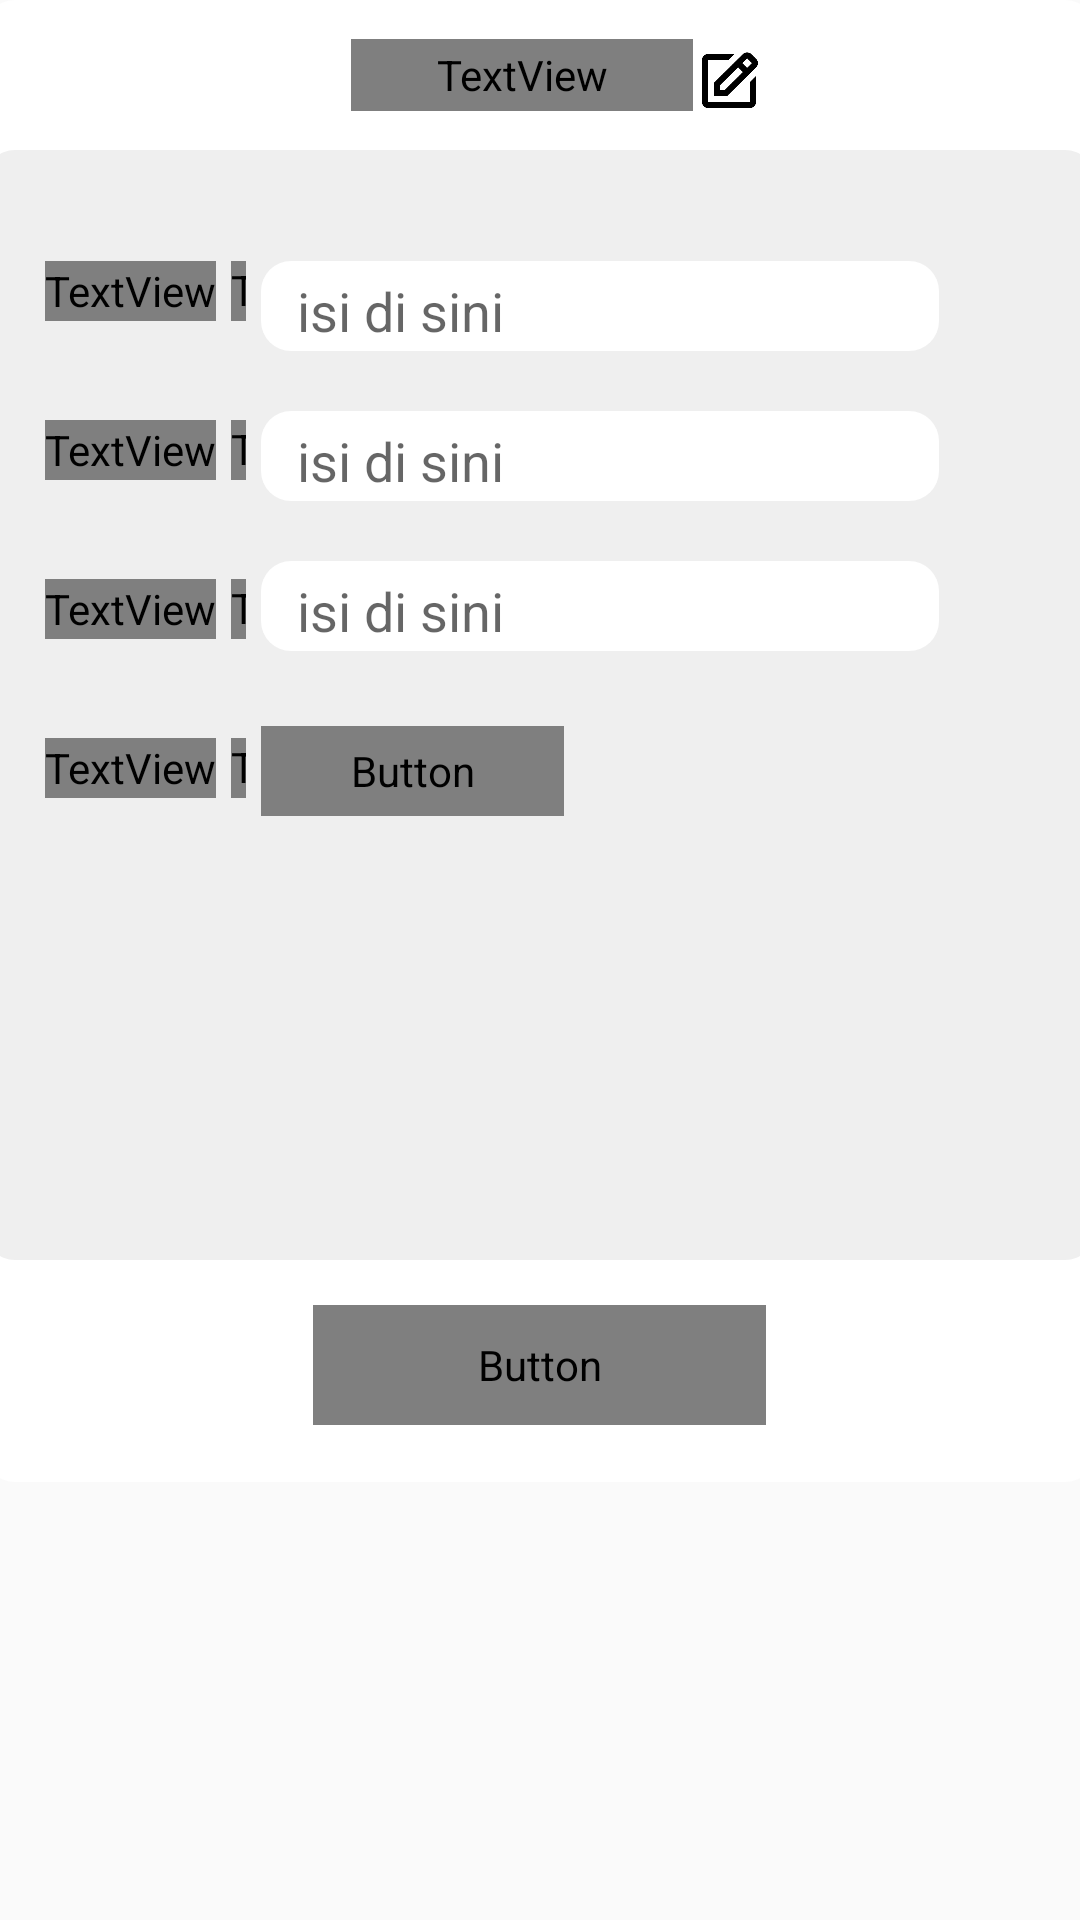

Named icons in this screenshot (1080 × 1920) and their centers, (x=x, y=y):
edit: (x=730, y=80)
